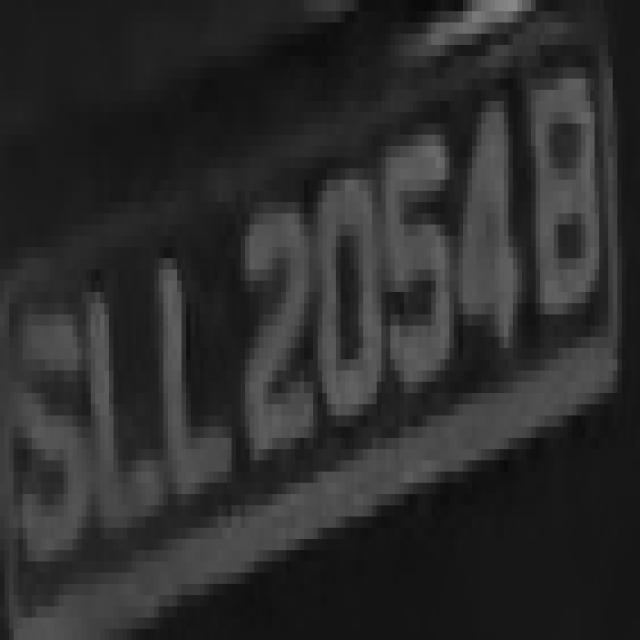0: (300, 134, 381, 426)
2: (236, 157, 322, 517)
4: (440, 67, 518, 382)
5: (368, 90, 449, 427)
B: (518, 68, 604, 360)
L: (159, 213, 236, 528), (91, 236, 159, 539)
S: (14, 269, 90, 584)
